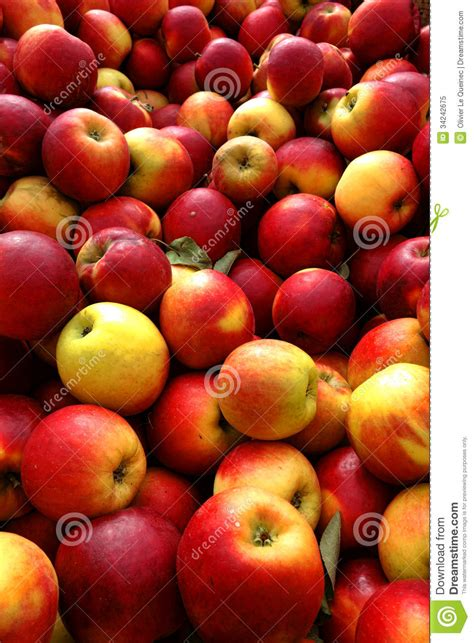apple: (177, 487, 322, 643), (20, 404, 149, 522), (212, 337, 321, 441), (157, 267, 263, 373), (40, 100, 131, 205), (329, 81, 421, 174), (272, 261, 355, 355), (212, 135, 276, 203)
